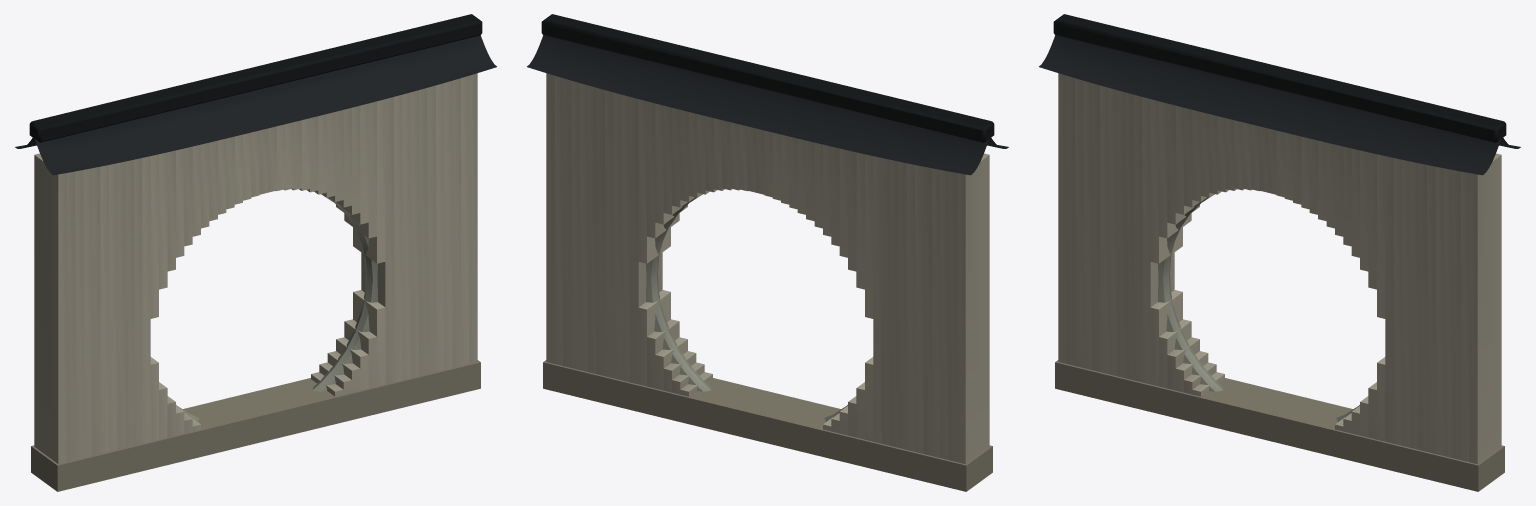
File: hz-moongate-wall.glb
3 renders of one model, left to right at view 1: azimuth 30°, elevation 25°; view 2: azimuth 150°, elevation 25°; view 3: azimuth 330°, elevation 25°, orthographic.
Parts seen in each view (by area): view 1: wall__plaster, coping__tile, ring__stone; view 2: wall__plaster, coping__tile, ring__stone; view 3: wall__plaster, coping__tile, ring__stone.
Part boxes in pixels (x1,y1,x2,y2): wall__plaster: [31, 73, 480, 491]; coping__tile: [15, 14, 496, 175]; ring__stone: [176, 194, 377, 421]; wall__plaster: [543, 73, 992, 491]; coping__tile: [527, 14, 1008, 175]; ring__stone: [646, 194, 847, 421]; wall__plaster: [1055, 73, 1504, 491]; coping__tile: [1039, 14, 1520, 175]; ring__stone: [1158, 194, 1359, 421].
Bounding box in the file's own units: 4.24 × 3.35 × 0.64.
